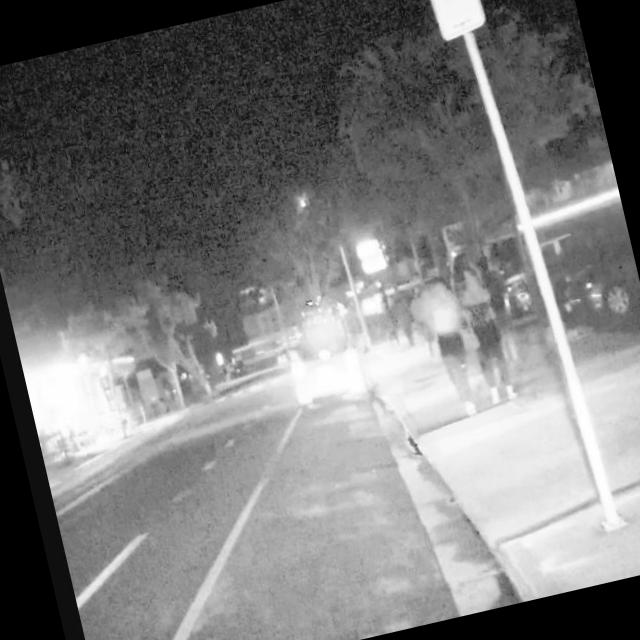Sign: (418, 0, 487, 43)
